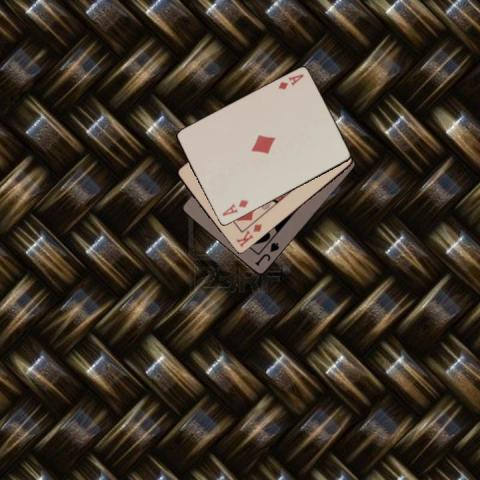Ad: (219, 198, 249, 218), (276, 72, 306, 92)
Js: (252, 239, 281, 268)
Kd: (234, 221, 264, 249)
